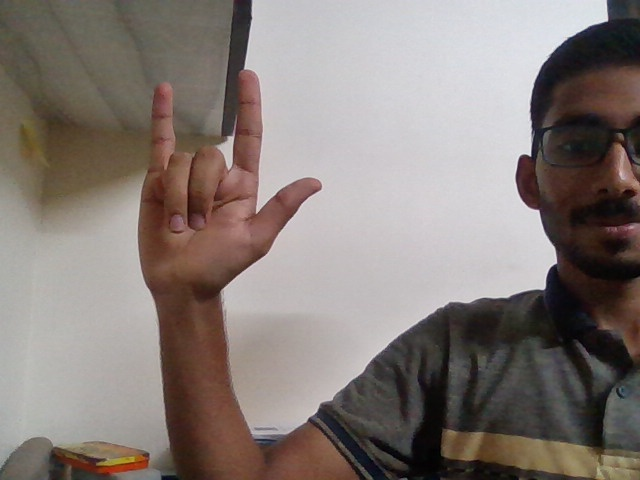Enjoy: (126, 61, 333, 346)
